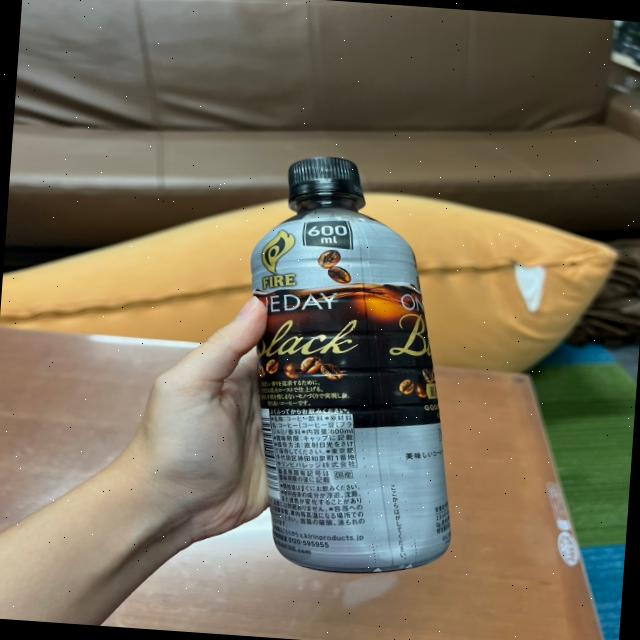coffee-black: (219, 148, 473, 578)
